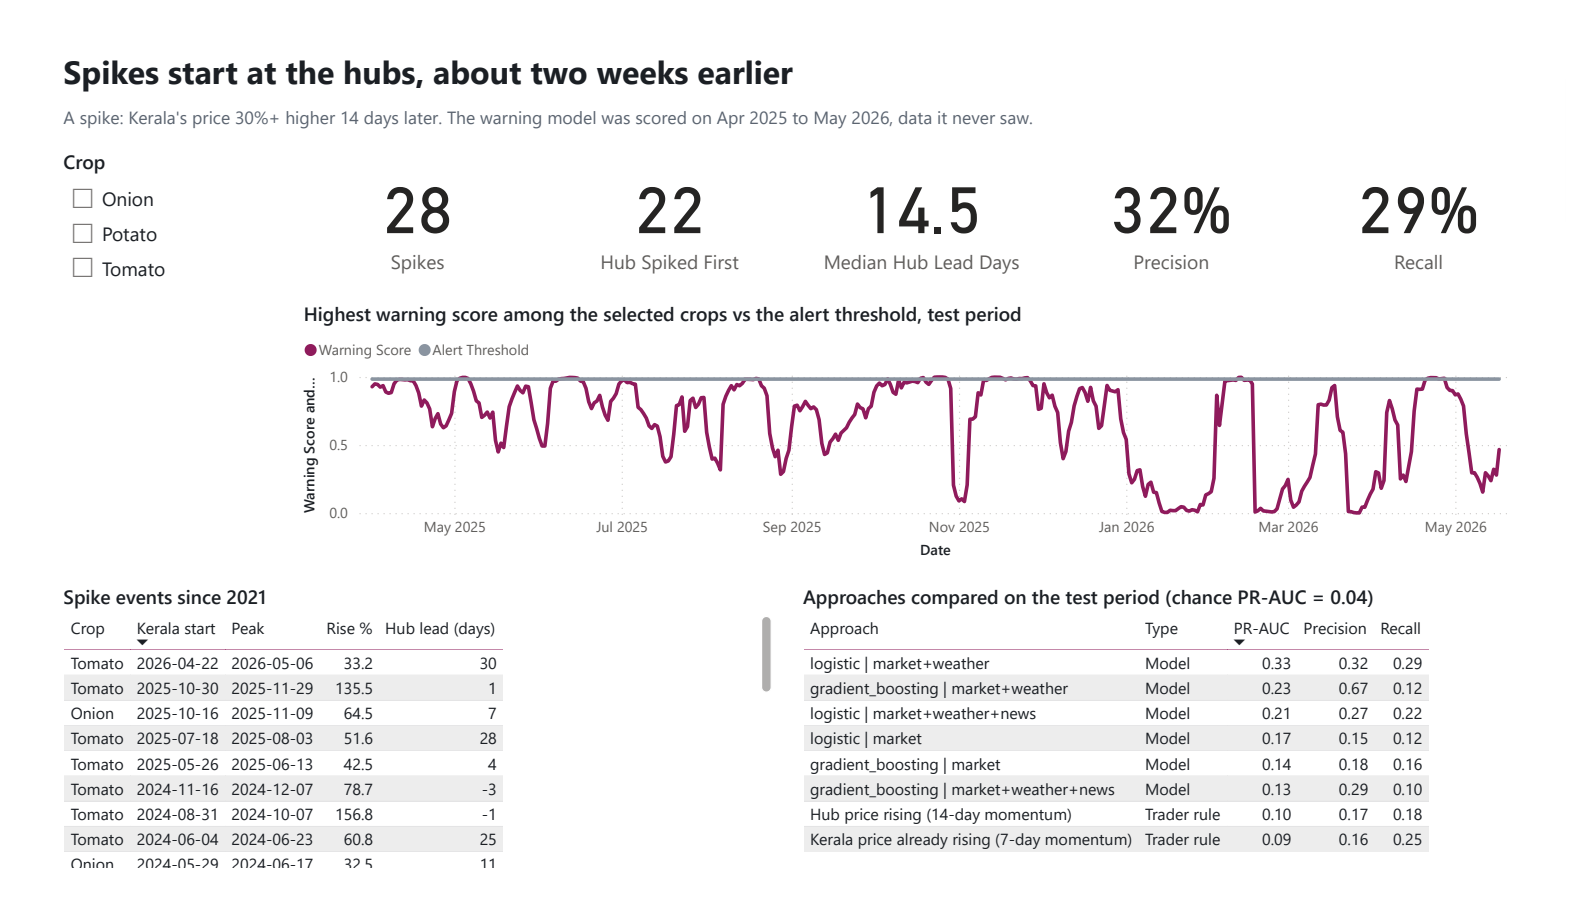

This screenshot's page, from the dashboard's own definition file:
{"tool":"powerbi","page":{"name":"Shocks & warning","canvas":[1280,720],"ordinal":2},"visuals":[{"type":"textbox","box":[24,12,1100,52],"z":0},{"type":"textbox","box":[24,58,1100,30],"z":1000},{"type":"slicer","title":"Crop","fields":{"Values":["Crop.Crop"]},"box":[24,100,180,150],"z":2000},{"type":"card","fields":{"Values":["Spike Events.Spikes"]},"box":[224,100,200,110],"z":3000},{"type":"card","fields":{"Values":["Spike Events.Hub Spiked First"]},"box":[434,100,200,110],"z":4000},{"type":"card","fields":{"Values":["Spike Events.Median Hub Lead Days"]},"box":[644,100,200,110],"z":5000},{"type":"card","fields":{"Values":["Predictions.Precision"]},"box":[854,100,196,110],"z":6000},{"type":"card","fields":{"Values":["Predictions.Recall"]},"box":[1060,100,196,110],"z":7000},{"type":"lineChart","title":"Highest warning score among the selected crops vs the alert threshold, test period","fields":{"Category":["Date.Date"],"Y":["Predictions.Warning Score","Predictions.Alert Threshold"]},"box":[224,226,1032,220],"z":8000},{"type":"tableEx","title":"Spike events since 2021","fields":{"Values":["Spike Events.commodity","Spike Events.start","Spike Events.peak","Spike Events.rise_pct","Spike Events.hub_lead_days"]},"box":[24,462,600,242],"z":9000},{"type":"tableEx","title":"Approaches compared on the test period (chance PR-AUC = 0.04)","fields":{"Values":["Model Scores.approach","Model Scores.kind","Model Scores.test_pr_auc","Model Scores.test_precision","Model Scores.test_recall"]},"box":[640,462,616,242],"z":10000}]}

Visuals, with their boxes in screenshot pixels (x1, y1, x2, y2), scaled from the page's 1280x720 canvas onto the 1594x922 screenshot:
textbox: <box>30,15,1400,82</box>
textbox: <box>30,74,1400,113</box>
"Crop" slicer: <box>30,128,254,320</box>
card - Spike Events.Spikes: <box>279,128,528,269</box>
card - Spike Events.Hub Spiked First: <box>540,128,790,269</box>
card - Spike Events.Median Hub Lead Days: <box>802,128,1051,269</box>
card - Predictions.Precision: <box>1063,128,1308,269</box>
card - Predictions.Recall: <box>1320,128,1564,269</box>
"Highest warning score among the selected crops vs the alert threshold, test period" lineChart: <box>279,289,1564,571</box>
"Spike events since 2021" tableEx: <box>30,592,777,902</box>
"Approaches compared on the test period (chance PR-AUC = 0.04)" tableEx: <box>797,592,1564,902</box>
